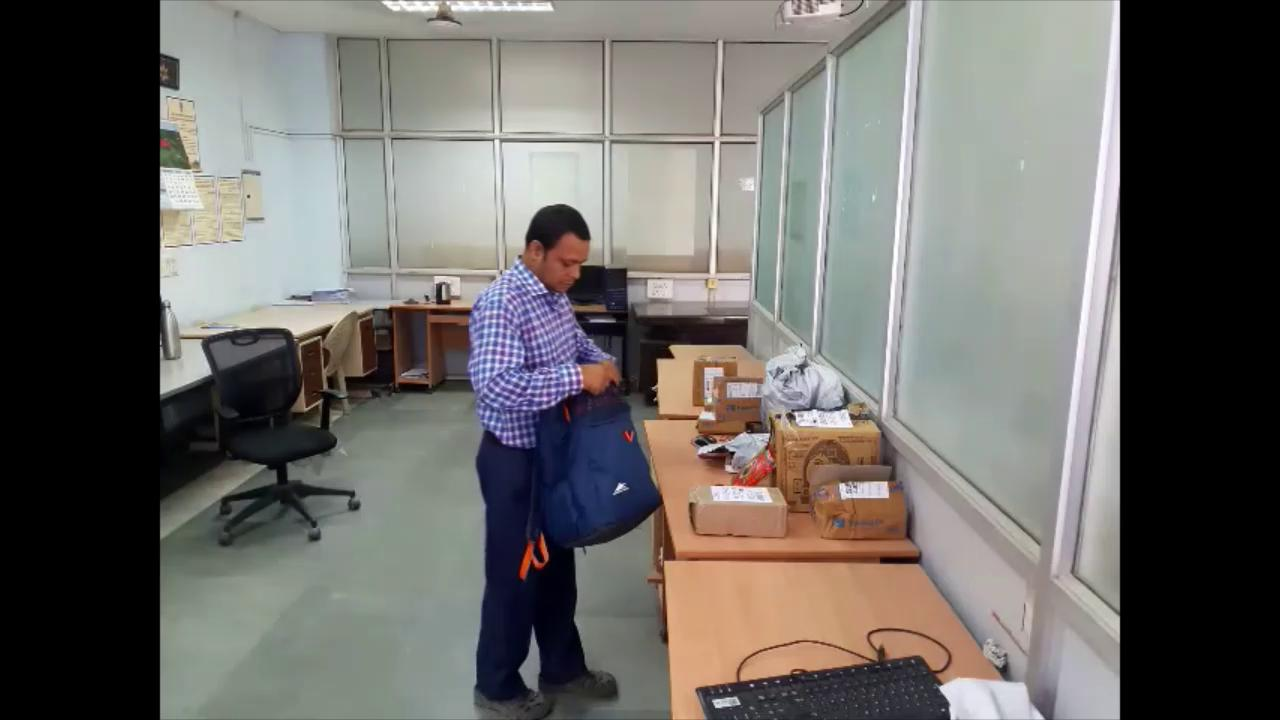shoplifting: (464, 197, 694, 720)
